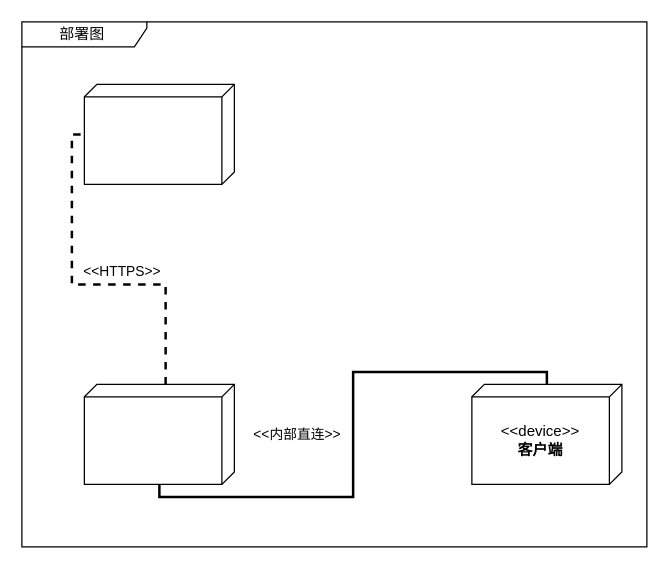
The diagram is 669 pixels wide and 569 high, and some of its shapes have lost their labels. The centre of each missing label's shape, as x and y in pixels:
"<<device>> 售货机" belongs at (158,433).
"<<device>> 远程服务器" belongs at (158,133).
